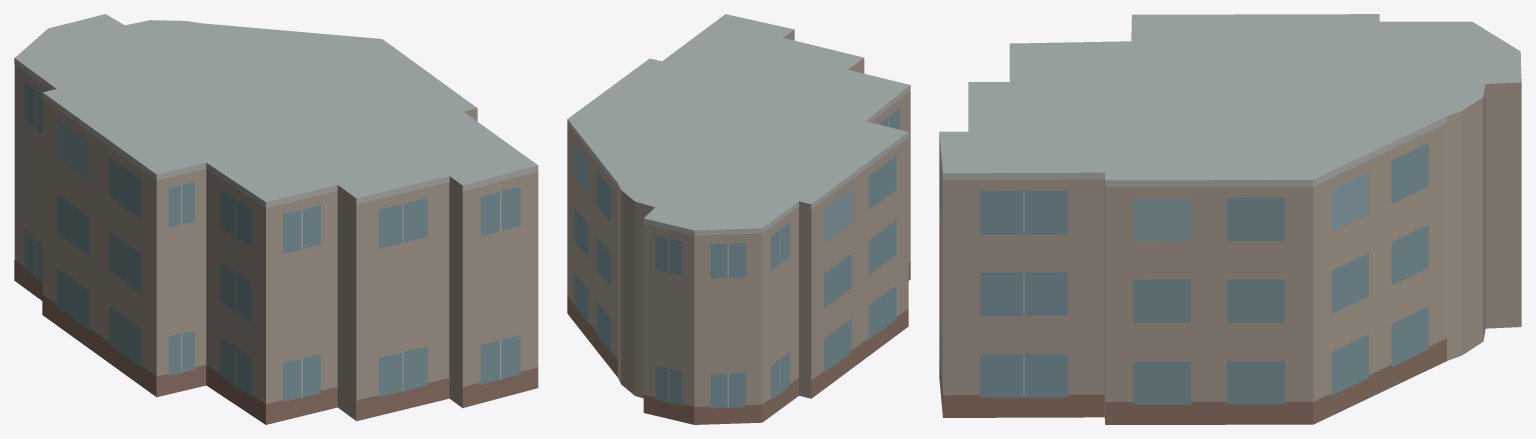
Rendered from survey-upis-32846382.glb.
3 views of the same model, side by side, from view 1: azimuth 30°, elevation 25°; view 2: azimuth 150°, elevation 25°; view 3: azimuth 270°, elevation 25° (orthographic). The views are drawn at different scales.
Visible parts, largest first — view 1: survey-upis-32846382.tmp; view 2: survey-upis-32846382.tmp; view 3: survey-upis-32846382.tmp.
Boxes of the visible parts, x1,y1,x2,y2 form: survey-upis-32846382.tmp: (14, 14, 538, 424); survey-upis-32846382.tmp: (567, 14, 910, 424); survey-upis-32846382.tmp: (939, 14, 1521, 424).
Bounding box in the file's own units: 13.16 × 9.02 × 19.47.
